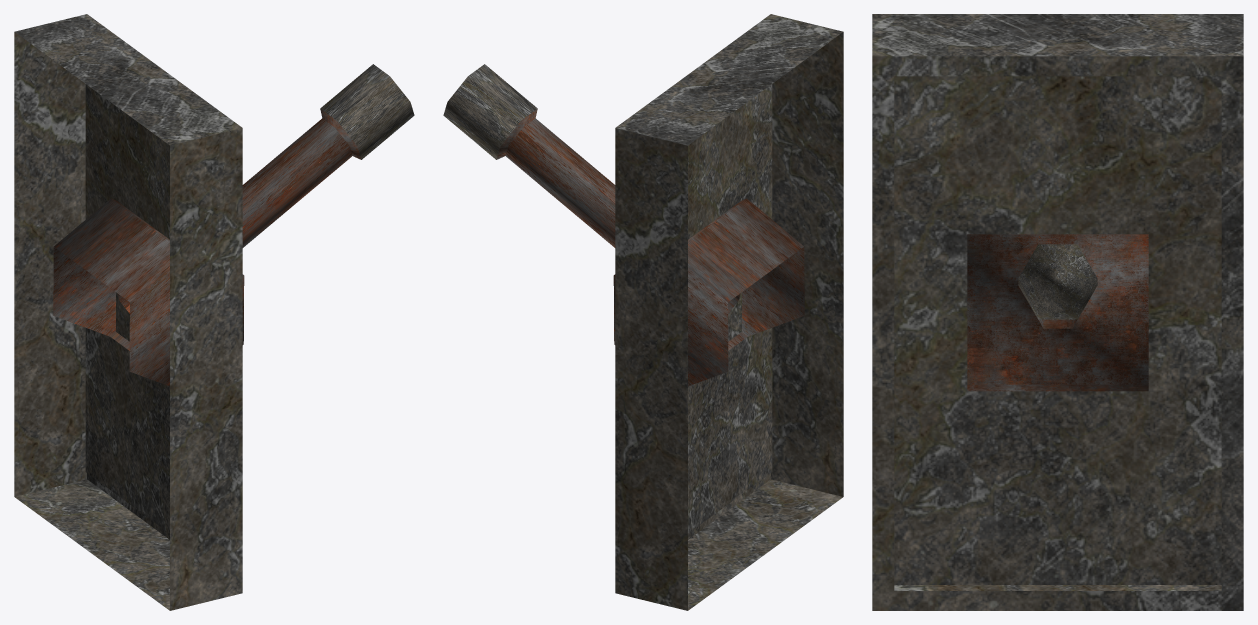
File: lever_anim1.obj
The picture shows the model from 3 angles, left to right: view 1: azimuth 30°, elevation 25°; view 2: azimuth 150°, elevation 25°; view 3: azimuth 270°, elevation 25°; orthographic projection. The views are drawn at different scales.
Visible parts, largest first — view 1: Cube, Cylinder; view 2: Cube, Cylinder; view 3: Cube, Cylinder.
Part boxes in pixels (<box>): Cube: <box>14,14,242,610</box>; Cylinder: <box>53,64,414,386</box>; Cube: <box>615,14,843,610</box>; Cylinder: <box>443,64,804,386</box>; Cube: <box>872,14,1243,610</box>; Cylinder: <box>967,234,1148,391</box>.
Size of the model in its own units: 1.42 by 2 by 1.21.
Materials: 2 (2 with a texture image).
